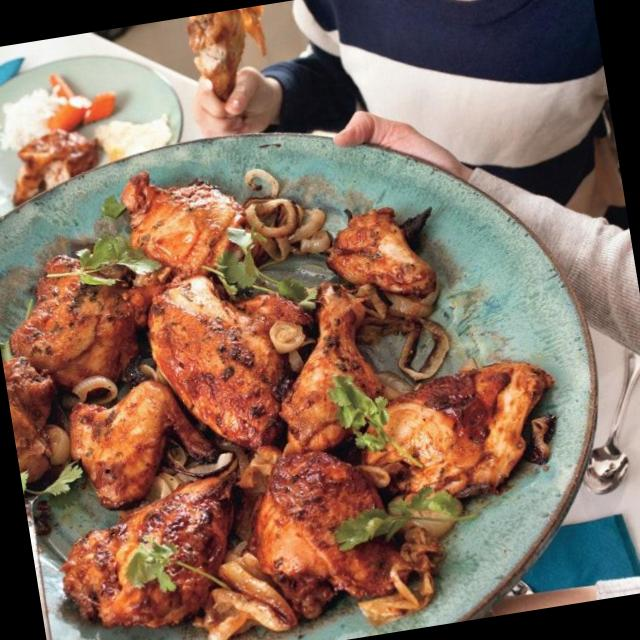chicken: (0, 189, 488, 640)
